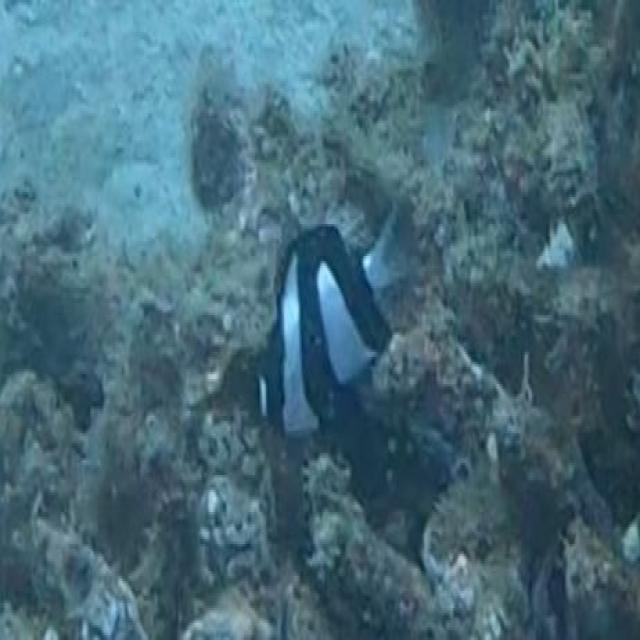ThreeStripedDamselfish: (257, 200, 415, 442)
